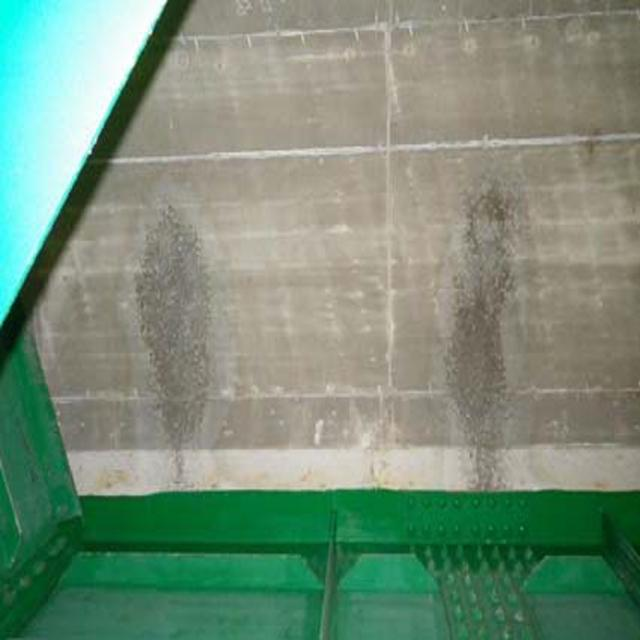crack: (441, 171, 543, 506)
leakage: (113, 194, 238, 497)
